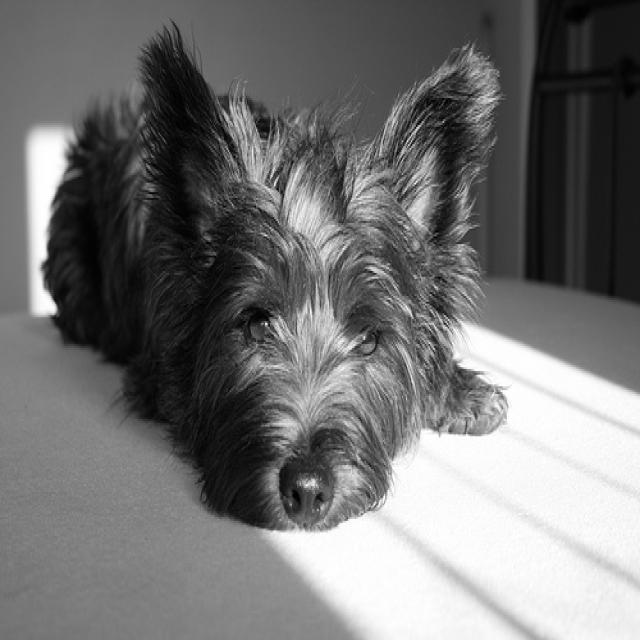dog-scottish_terrier: (27, 37, 512, 544)
